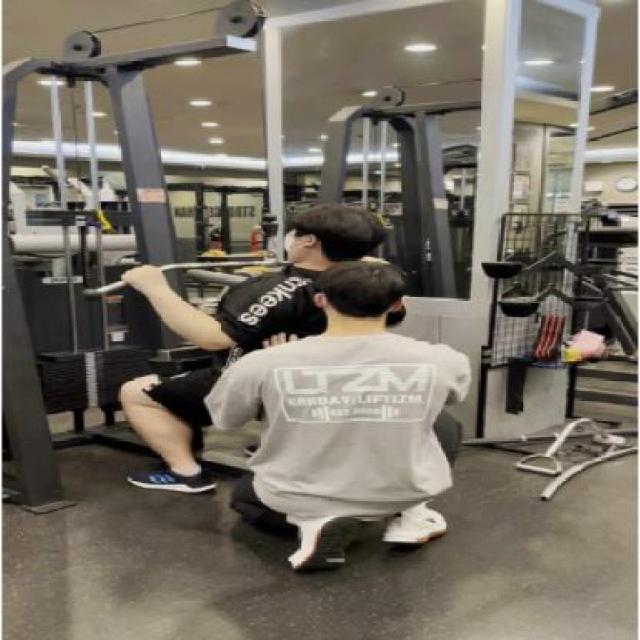Lat Pull Down: (0, 0, 505, 580)
